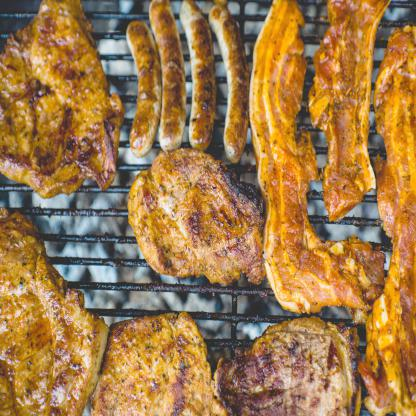Carne: (0, 0, 119, 202), (0, 213, 107, 415), (129, 147, 260, 281), (217, 323, 361, 415), (91, 320, 224, 415)
